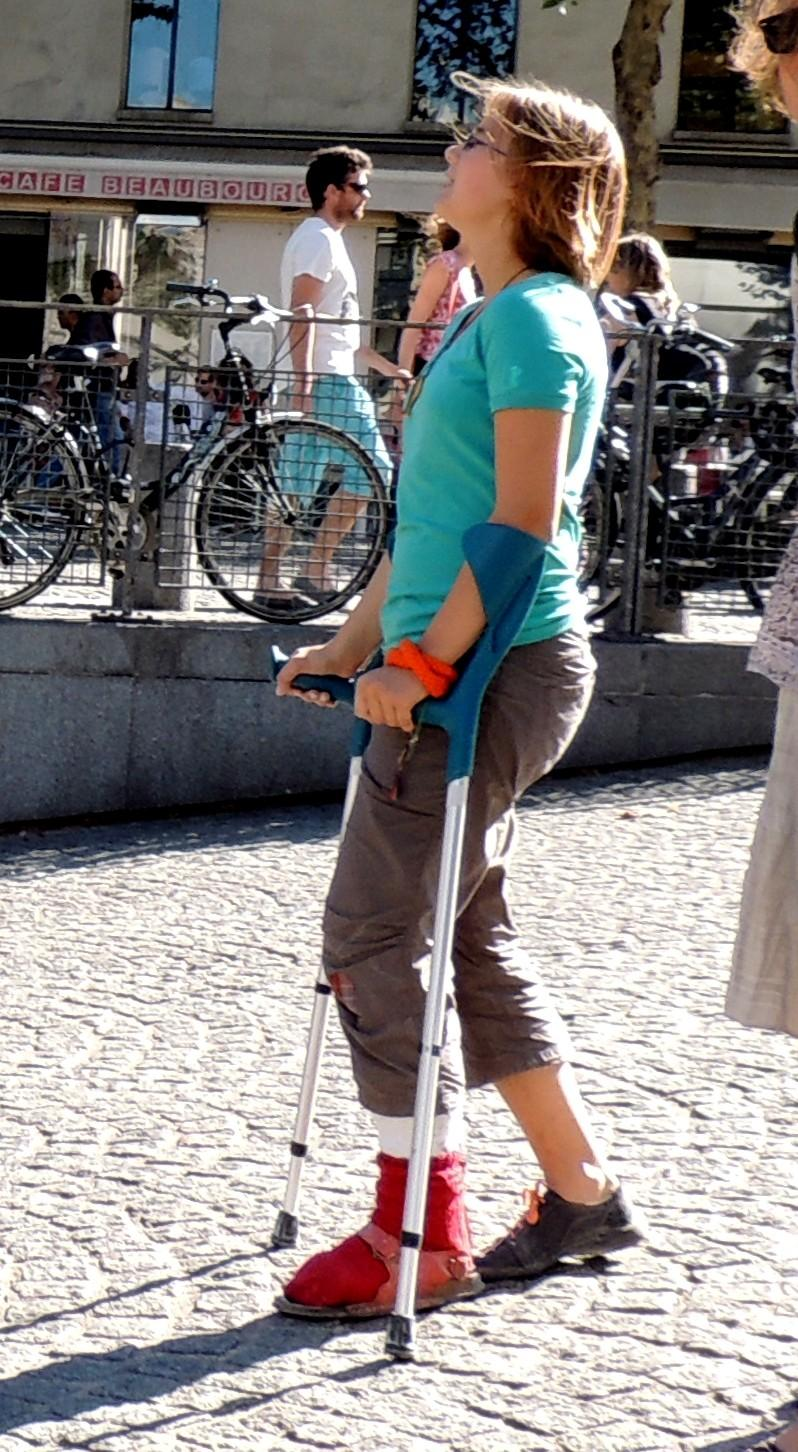crutches: (271, 71, 652, 1360)
